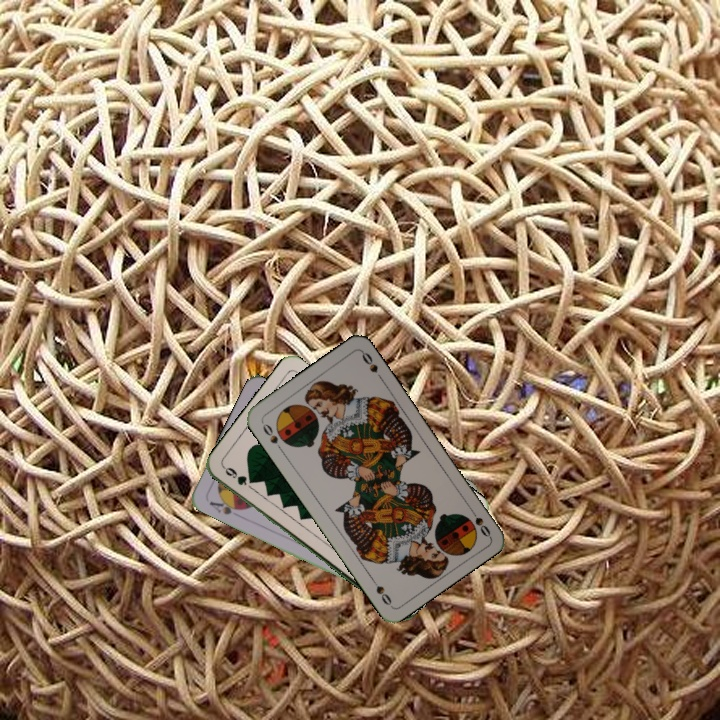G9: (219, 463, 250, 488)
SA: (205, 494, 244, 519)
SO: (465, 503, 493, 540), (258, 419, 285, 454)
